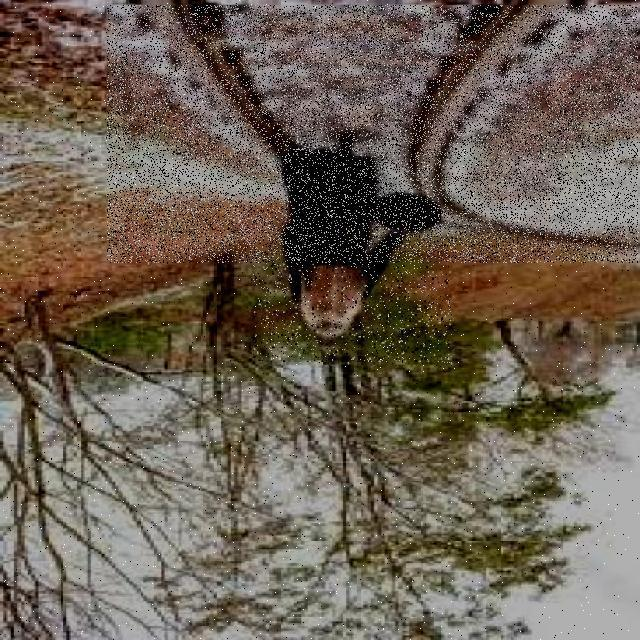danger: (253, 117, 452, 363)
rail: (108, 6, 638, 263)
